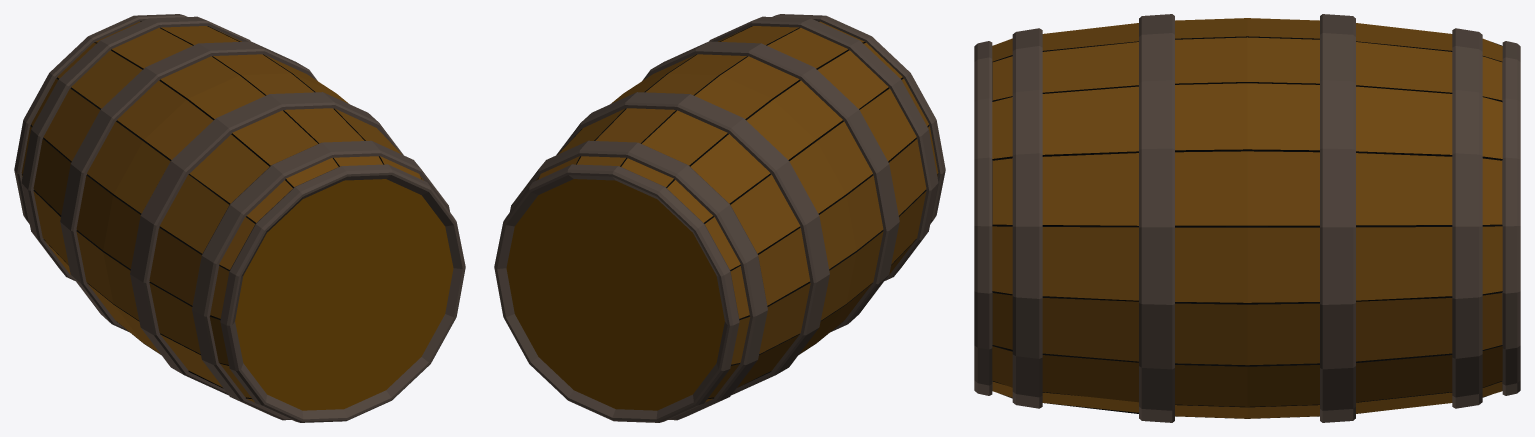
Rendered from Barrel.fbx.
3 views of the same model, side by side, from view 1: azimuth 30°, elevation 25°; view 2: azimuth 150°, elevation 25°; view 3: azimuth 270°, elevation 25° (orthographic). The views are drawn at different scales.
Visible parts, largest first — view 1: Barrel; view 2: Barrel; view 3: Barrel.
Boxes of the visible parts, x1,y1,x2,y2 form: Barrel: (14, 14, 465, 422); Barrel: (494, 14, 945, 422); Barrel: (974, 14, 1520, 422).
Size of the model in its own units: 269 by 269 by 359.
